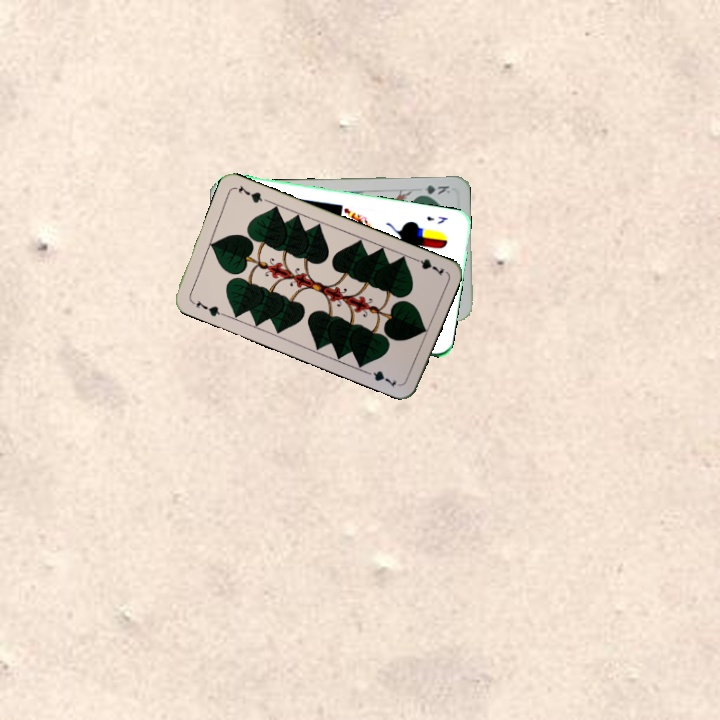EK: (423, 212, 451, 226)
G7: (408, 253, 447, 278), (192, 296, 226, 319)
GK: (413, 181, 453, 198)
